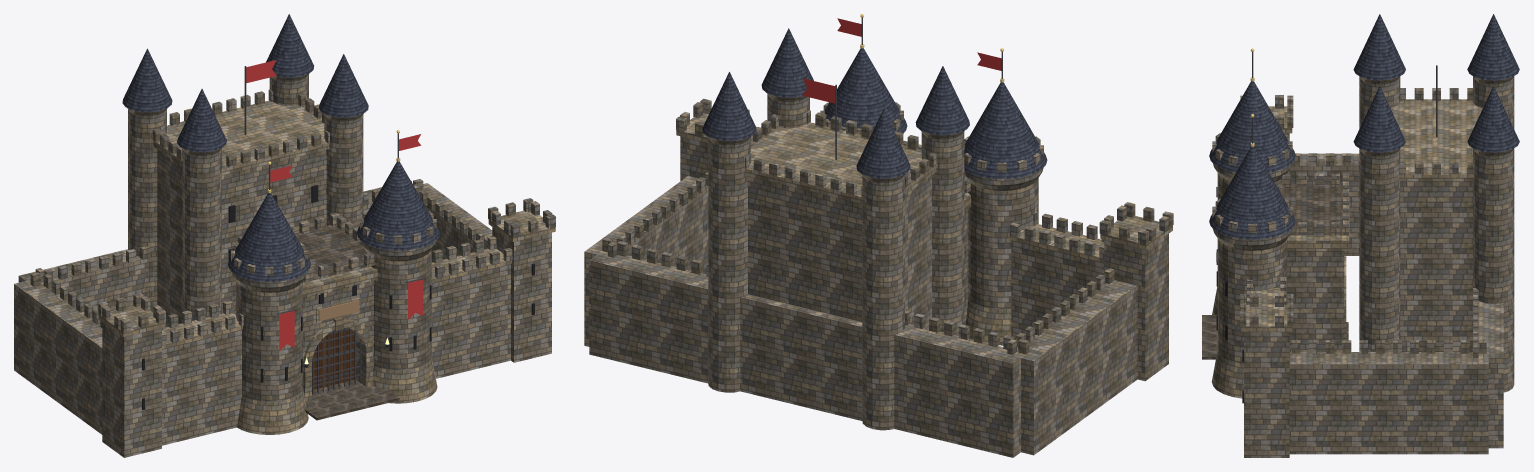
The model's file is castle-gate.glb.
3 renders of one model, left to right at view 1: azimuth 30°, elevation 25°; view 2: azimuth 150°, elevation 25°; view 3: azimuth 270°, elevation 25°, orthographic. The views are drawn at different scales.
Visible parts, largest first — view 1: castle_body, portcullis, gate_door_r, banner_l, banner_r; view 2: castle_body; view 3: castle_body.
Part boxes in pixels (x1,y1,x2,y2): castle_body: [14, 14, 555, 457]; portcullis: [312, 328, 361, 394]; gate_door_r: [329, 328, 354, 385]; banner_l: [279, 311, 294, 350]; banner_r: [408, 279, 423, 319]; castle_body: [584, 14, 1173, 457]; castle_body: [1202, 14, 1519, 457].
Size of the model in its own units: 36.72 by 23.2 by 22.35.
11 materials, 5 textured.
